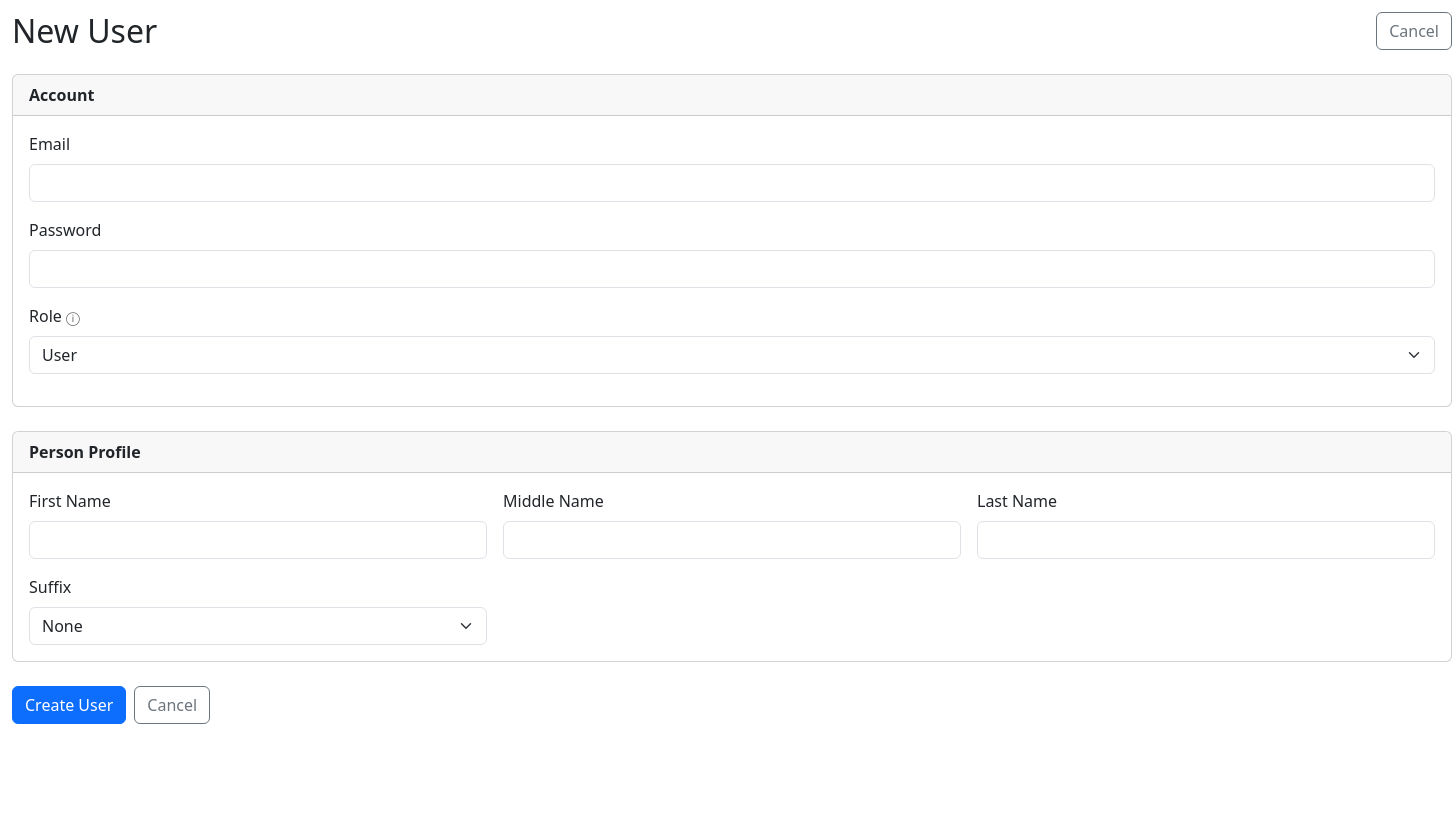
UserFormPage › Create mode › shows validation error when email is empty on submit
Click the button "Create User".
click(69, 705)  # box [12,686,126,724]
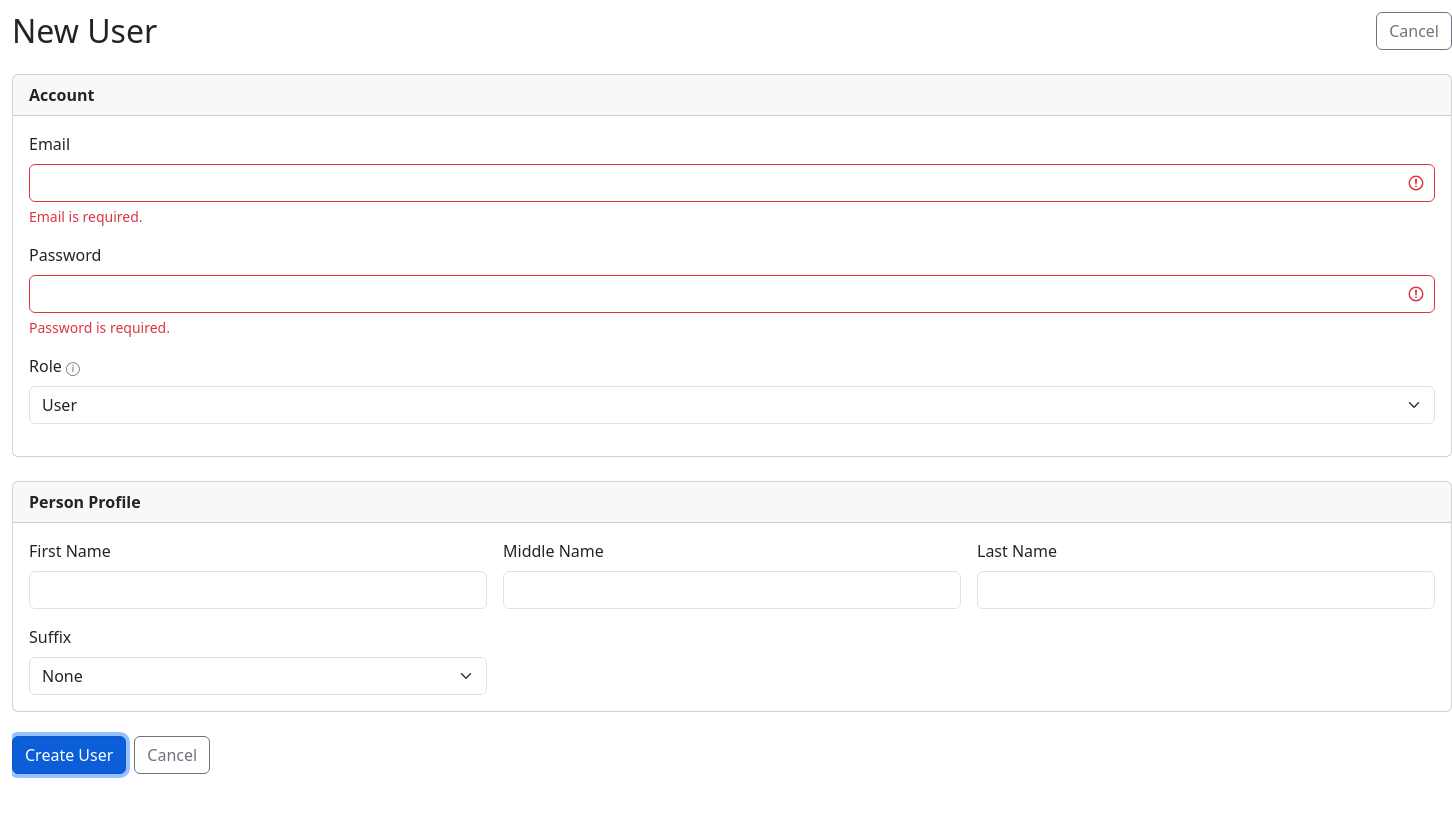
Check: the text "Email is required." is shown, box [29,207,143,226]
